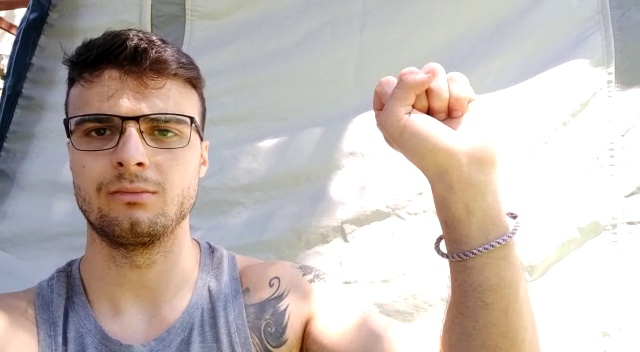Fist: (373, 60, 506, 177)
